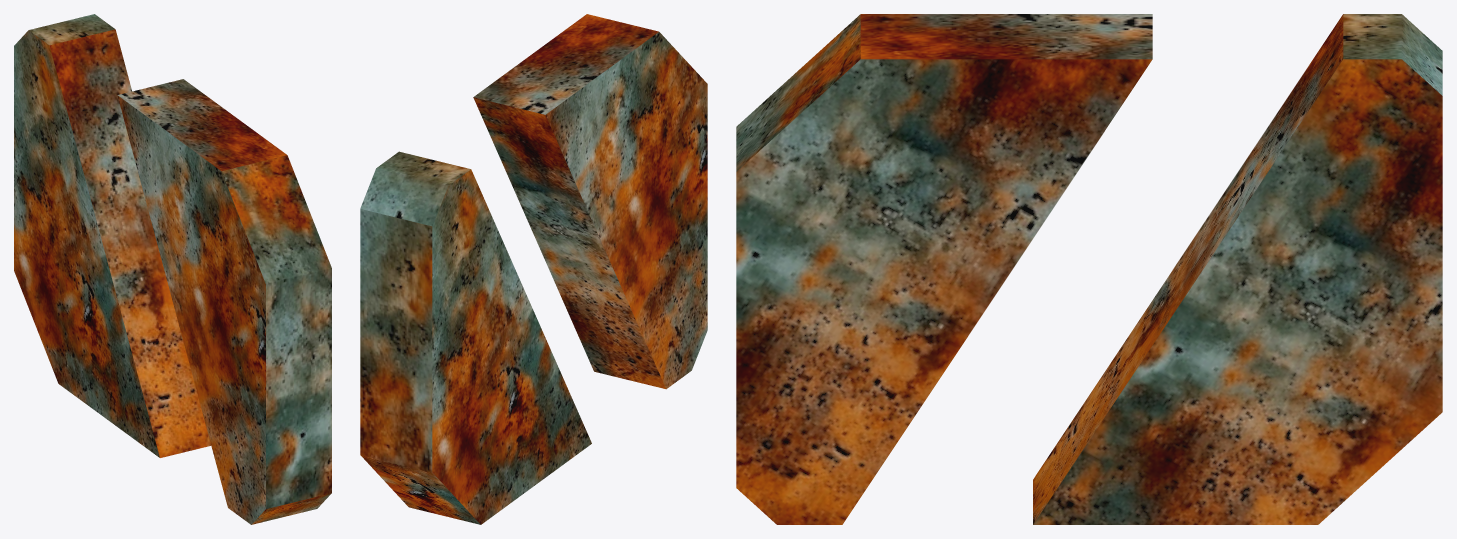
File: dooropened.glb
3 renders of one model, left to right at view 1: azimuth 30°, elevation 25°; view 2: azimuth 150°, elevation 25°; view 3: azimuth 270°, elevation 25°, orthographic. The views are drawn at different scales.
Parts seen in each view (by area): view 1: Cube; view 2: Cube; view 3: Cube.
Part boxes in pixels (x1,y1,x2,y2): Cube: (14,14,331,524); Cube: (360,14,707,524); Cube: (736,14,1442,524).
Bounding box in the file's own units: 0.5 × 2.4 × 3.3.
Materials: 1 (1 with a texture image).
